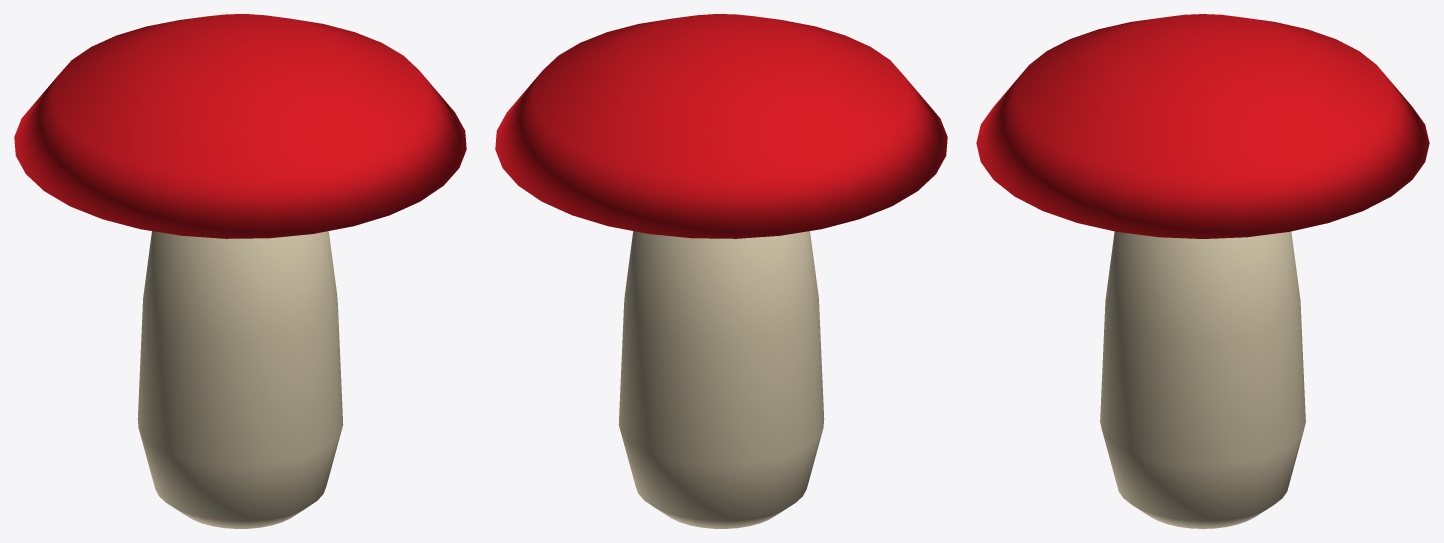
File: champi64.fbx
The picture shows the model from 3 angles, left to right: view 1: azimuth 30°, elevation 25°; view 2: azimuth 150°, elevation 25°; view 3: azimuth 270°, elevation 25°; orthographic projection.
Parts seen in each view (by area): view 1: Circle; view 2: Circle; view 3: Circle.
Boxes of the visible parts, <box> form: Circle: <box>14,14,466,528</box>; Circle: <box>495,14,947,528</box>; Circle: <box>976,14,1429,528</box>.
Bounding box in the file's own units: 123 × 139 × 123.
